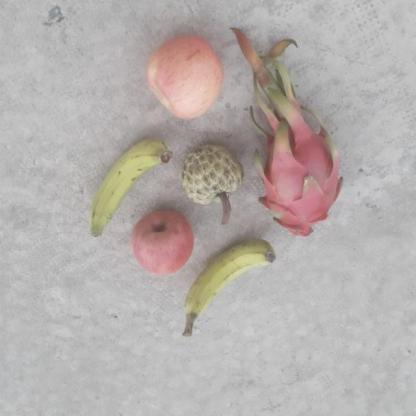annona: (177, 145, 247, 206)
apple: (140, 30, 230, 119), (128, 204, 194, 280)
banana: (85, 141, 170, 247), (175, 245, 282, 320)
pitaya: (244, 133, 340, 244)
